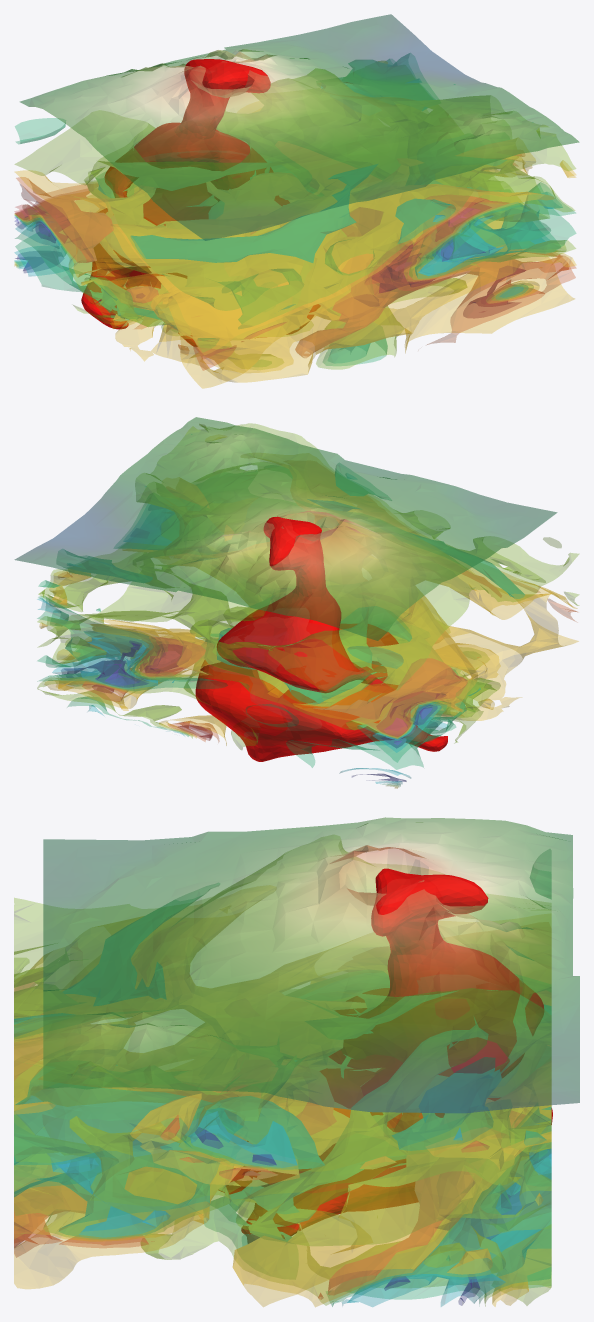
File: Tambora.glb
3 renders of one model, top to bottom at view 1: azimuth 30°, elevation 25°; view 2: azimuth 150°, elevation 25°; view 3: azimuth 270°, elevation 25°, orthographic. The views are drawn at different scales.
Parts seen in each view (by area): view 1: Contour, Relief, Magma; view 2: Contour, Relief, Magma; view 3: Contour, Relief, Magma.
Boxes of the visible parts, bbox=[...] form: Contour: bbox=[14, 53, 575, 388]; Relief: bbox=[20, 14, 579, 240]; Magma: bbox=[81, 59, 320, 346]; Contour: bbox=[37, 423, 578, 788]; Relief: bbox=[14, 417, 557, 640]; Magma: bbox=[195, 516, 447, 761]; Contour: bbox=[14, 835, 551, 1306]; Relief: bbox=[43, 817, 579, 1113]; Magma: bbox=[219, 868, 552, 1243].
Size of the model in its own units: 4.97 by 2.75 by 4.42.
